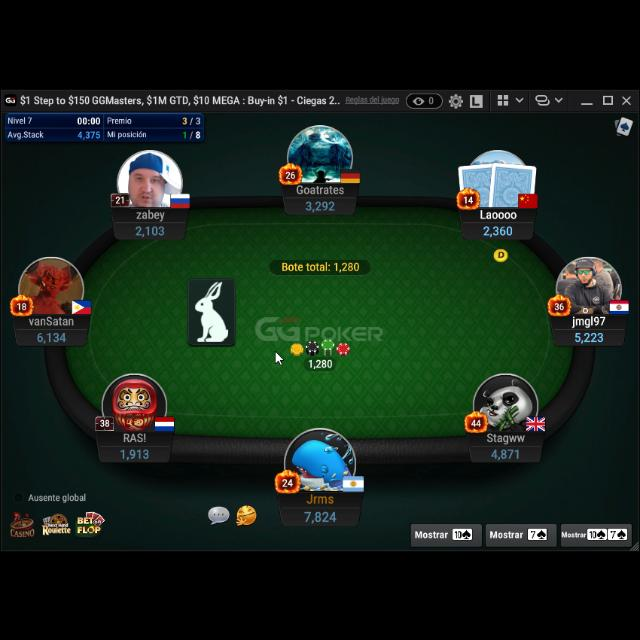bet_text: (308, 354, 334, 368)
card_back: (488, 157, 540, 207), (456, 160, 500, 208)
dealer: (492, 244, 510, 262)
pot_text: (280, 259, 362, 273)
stack_text: (302, 506, 338, 524), (491, 444, 522, 460), (34, 328, 68, 342), (118, 445, 152, 459), (573, 328, 605, 342), (134, 222, 166, 236), (304, 197, 336, 211), (482, 222, 514, 236)
